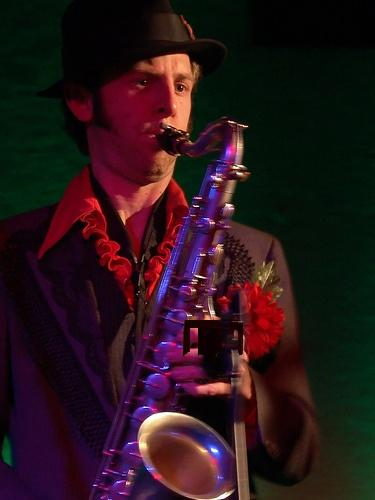tampered: (183, 321, 243, 363)
